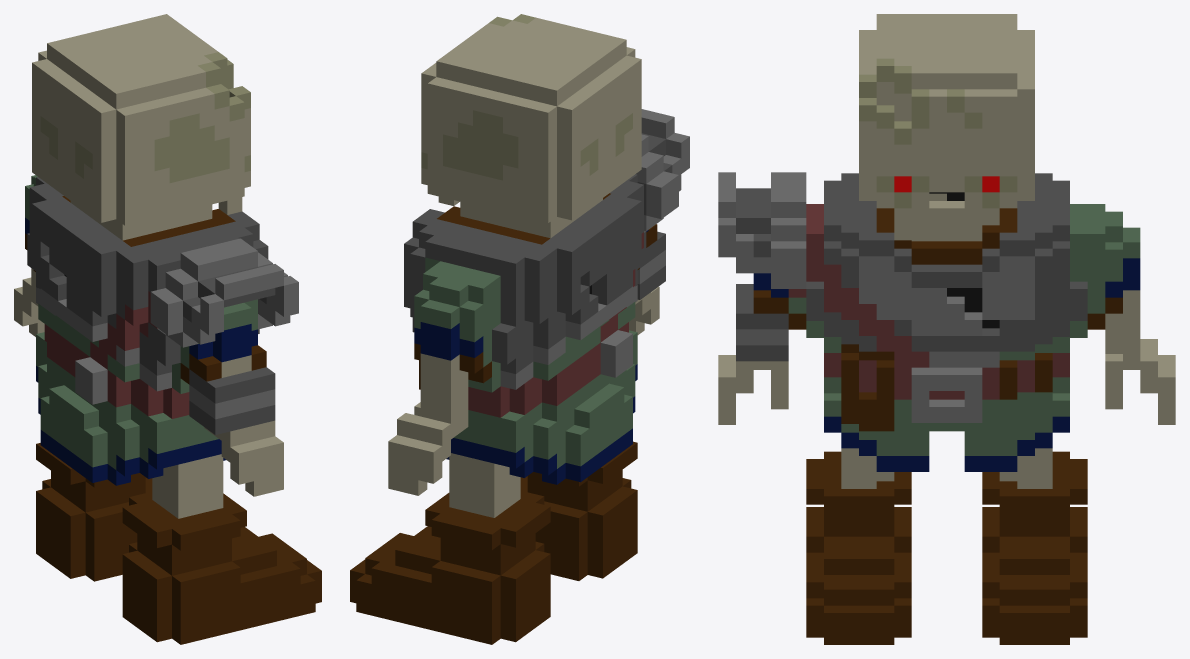
Rendered from enemy1.fbx.
The picture shows the model from 3 angles, left to right: view 1: azimuth 30°, elevation 25°; view 2: azimuth 150°, elevation 25°; view 3: azimuth 270°, elevation 25°; orthographic projection.
Visible parts, largest first — view 1: Untitled; view 2: Untitled; view 3: Untitled.
Boxes of the visible parts, bbox=[...] form: Untitled: bbox=[14, 14, 321, 644]; Untitled: bbox=[350, 14, 689, 644]; Untitled: bbox=[718, 14, 1175, 644].
Bounding box in the file's own units: 1300 × 2600 × 3400.
Materials: 1 (1 with a texture image).
